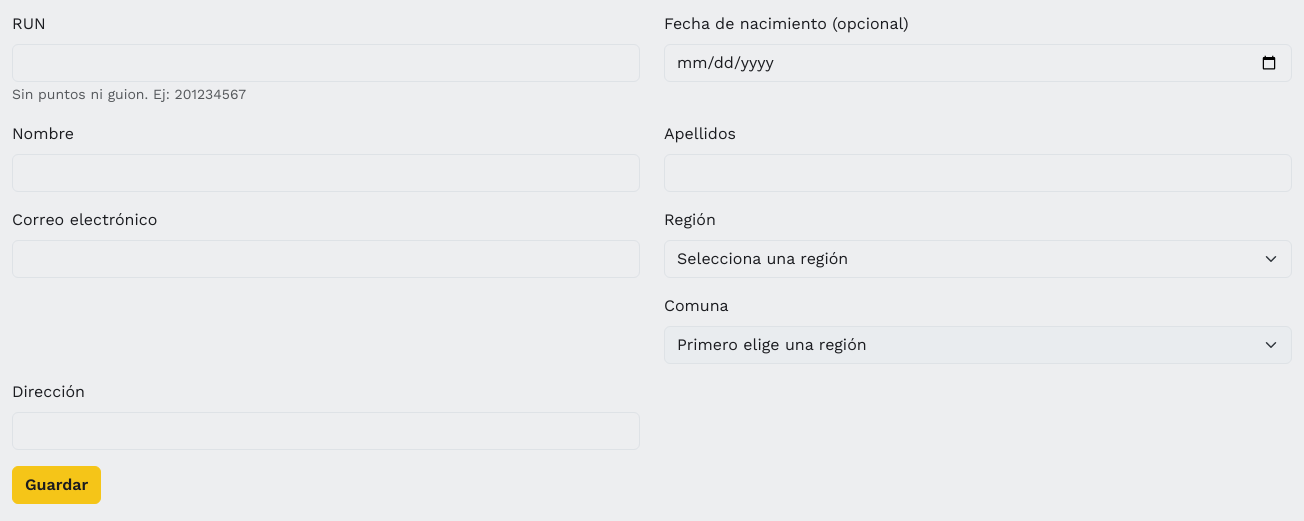
Test case: FormularioUsuario › mantiene la comuna deshabilitada hasta elegir una región y luego la llena
Expected: the dropdown labelled "Comuna" is disabled, top-left (664, 326), bottom-right (1292, 364)
Select "Valparaíso" in the dropdown labelled "Región" at (978, 259), box top-left (664, 240), bottom-right (1292, 278)
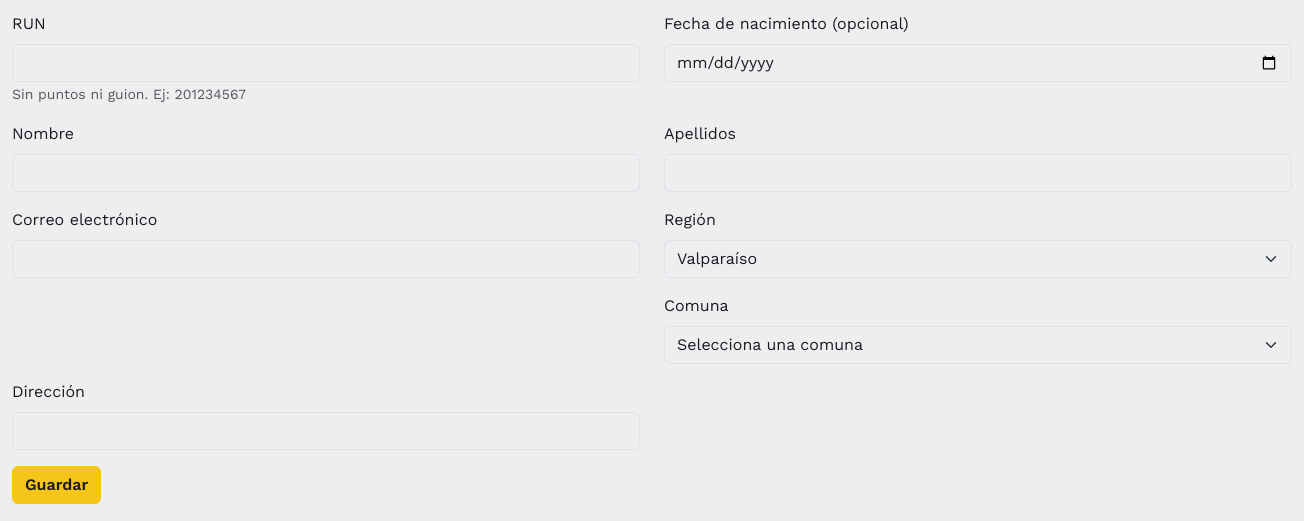
Expected: the dropdown labelled "Comuna" is enabled, top-left (664, 326), bottom-right (1292, 364)
